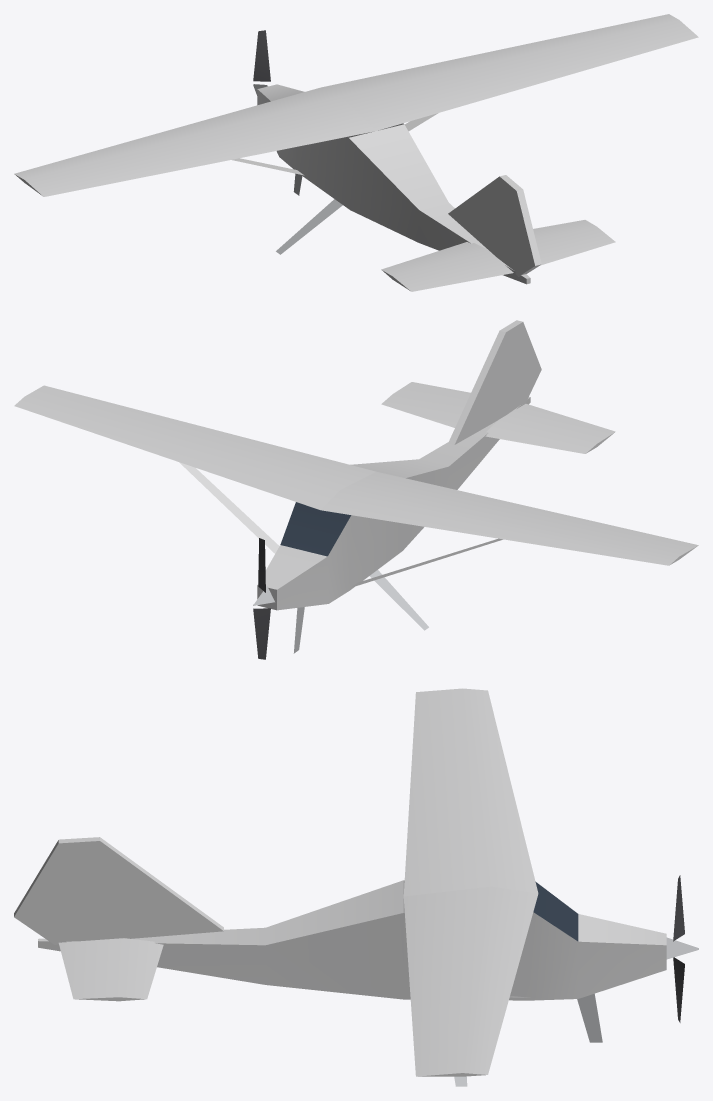
The model's file is Cessna_172_LOD3.glb.
The picture shows the model from 3 angles, top to bottom: view 1: azimuth 30°, elevation 25°; view 2: azimuth 150°, elevation 25°; view 3: azimuth 270°, elevation 25°; orthographic projection. The views are drawn at different scales.
Parts seen in each view (by area): view 1: Cessna_172_Body, Propeller; view 2: Cessna_172_Body, Propeller; view 3: Cessna_172_Body, Propeller.
Part boxes in pixels (<box>): Cessna_172_Body: <box>14,14,698,291</box>; Propeller: <box>253,30,270,81</box>; Cessna_172_Body: <box>14,320,698,653</box>; Propeller: <box>253,538,270,659</box>; Cessna_172_Body: <box>14,688,698,1086</box>; Propeller: <box>673,875,684,1022</box>.
Size of the model in its own units: 11 by 2.72 by 8.28.
